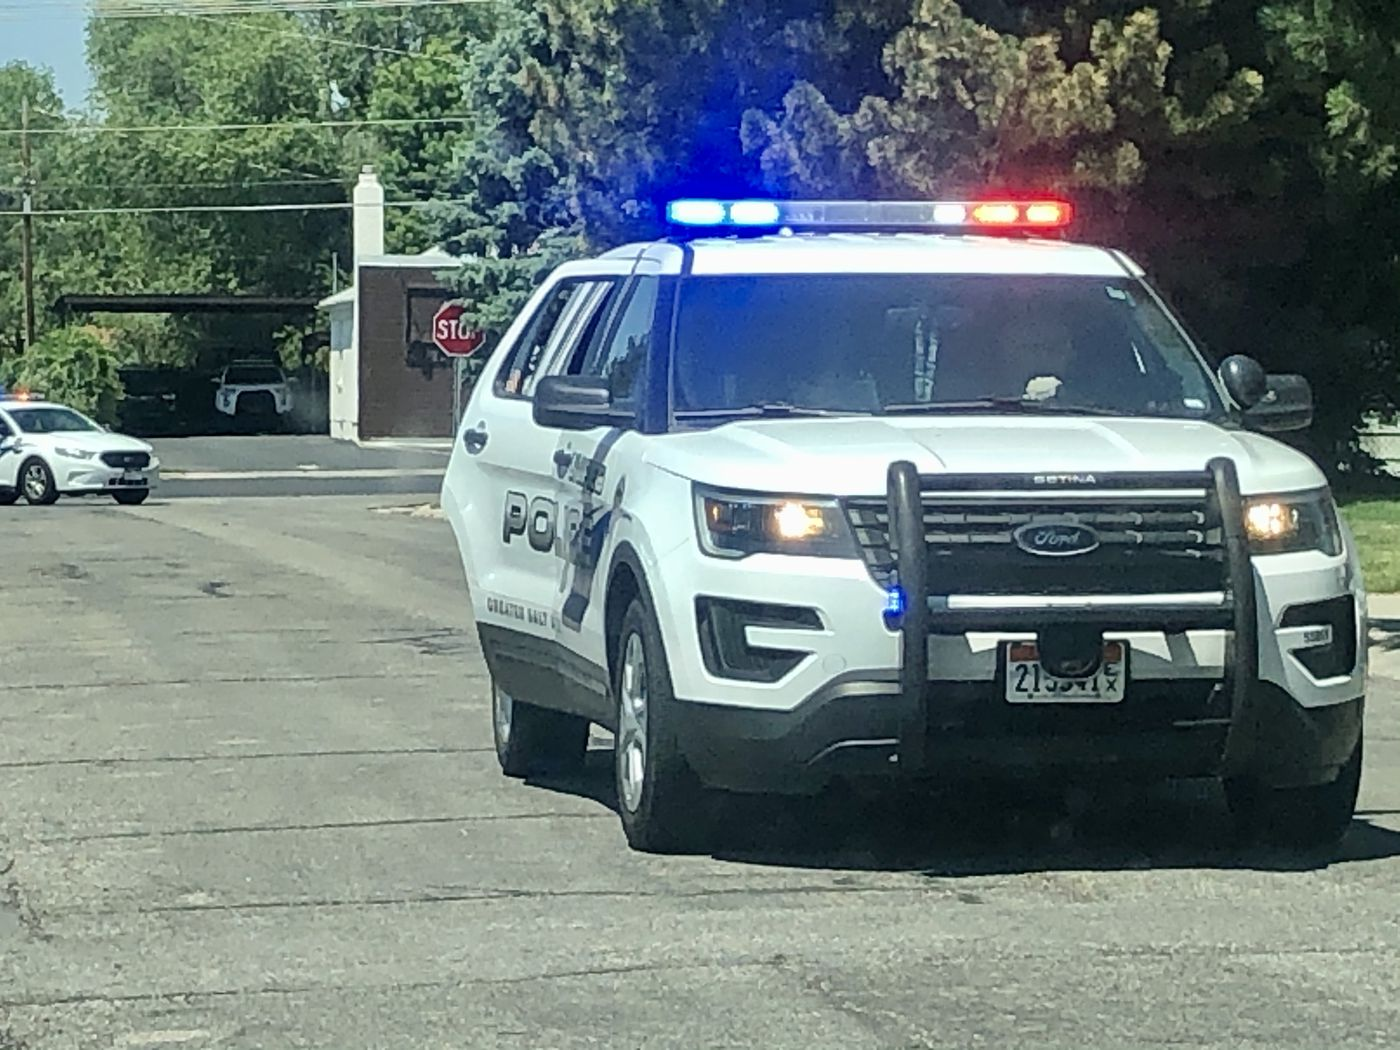special: (443, 192, 1363, 859), (1, 390, 164, 513)
